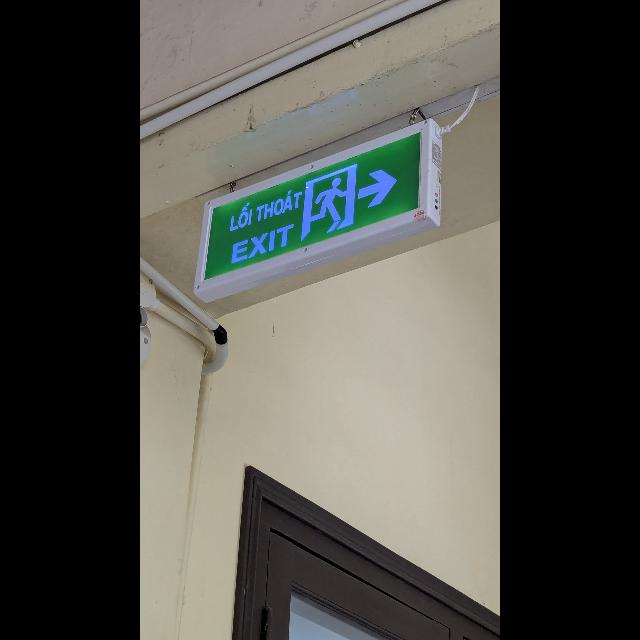exit: (207, 134, 423, 280)
